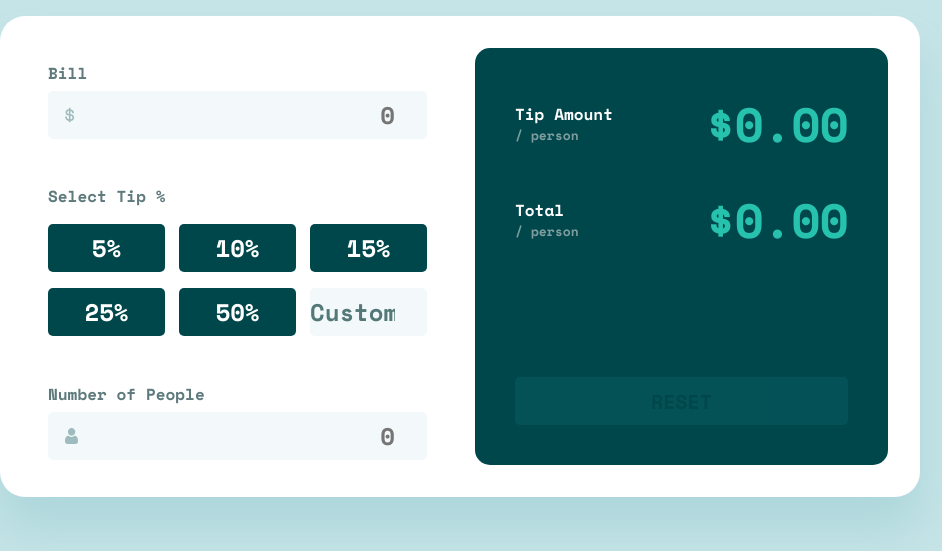
Test user interface interactions › should enable reset button when custom value input default value is changed
Type "2" into the number field named "custom value" at (368, 312), box [310,288,427,336]
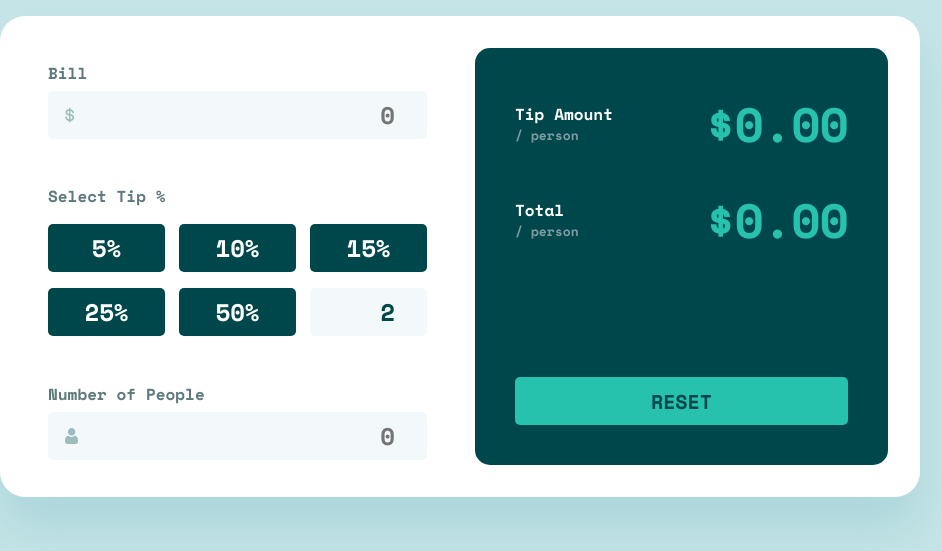
expect the button "RESET" is enabled: met, box [515,377,848,425]
